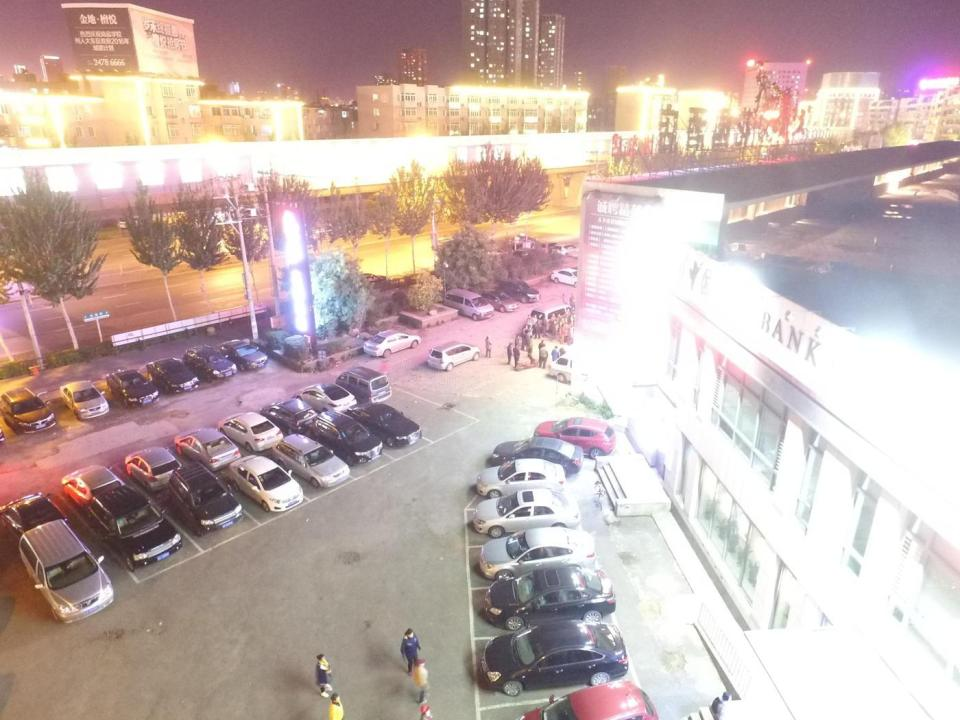car: (480, 621, 629, 696), (483, 565, 616, 630), (89, 484, 183, 572), (481, 526, 594, 582), (168, 462, 242, 538), (516, 682, 658, 720), (473, 489, 580, 538), (272, 432, 350, 487), (229, 455, 304, 512), (1, 492, 71, 548), (476, 457, 566, 499), (492, 437, 584, 476), (535, 415, 616, 459), (60, 464, 128, 514), (348, 402, 422, 446), (174, 426, 241, 472), (125, 446, 183, 493), (218, 411, 284, 452), (1, 386, 56, 434), (260, 397, 319, 434), (106, 368, 158, 409), (296, 383, 357, 417), (146, 356, 200, 394), (184, 344, 237, 382), (60, 380, 109, 421), (363, 329, 420, 358), (427, 342, 481, 371), (218, 339, 268, 370), (499, 279, 541, 304), (480, 290, 519, 312), (551, 268, 585, 287), (350, 274, 388, 290), (509, 232, 537, 248), (555, 244, 581, 258), (536, 241, 559, 254)
van: (18, 518, 114, 624), (313, 410, 383, 466), (334, 366, 391, 403), (548, 350, 607, 384), (444, 289, 494, 321), (530, 303, 573, 332)
